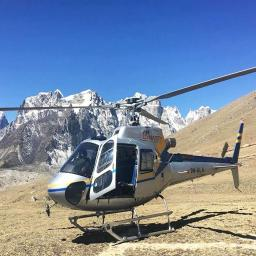helicopter: (3, 64, 256, 250)
